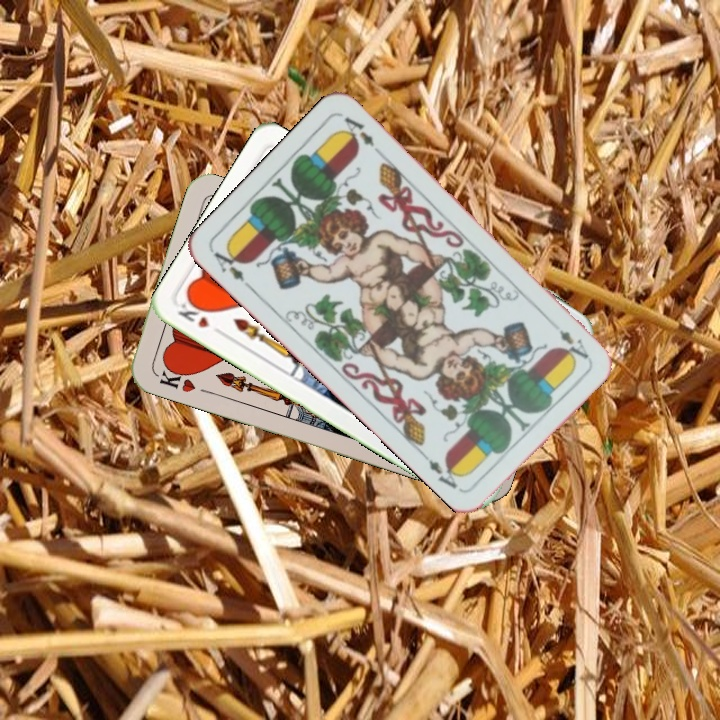EA: (209, 244, 256, 293), (544, 315, 592, 362)
HK: (174, 295, 228, 339), (152, 361, 198, 395)
